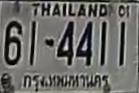1: (29, 21, 36, 65), (119, 21, 125, 64), (100, 21, 105, 64)
4: (56, 20, 74, 65), (76, 21, 92, 65)
6: (4, 20, 21, 64)
BKK: (19, 70, 113, 91)
